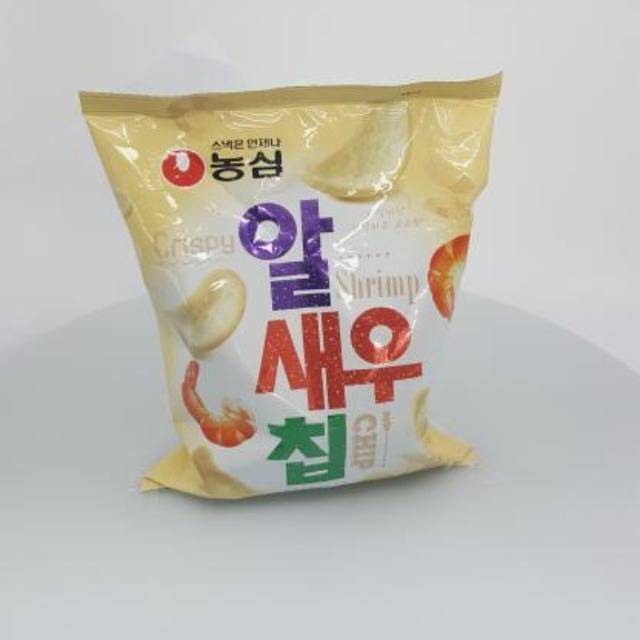snack_bag: (73, 64, 519, 512)
